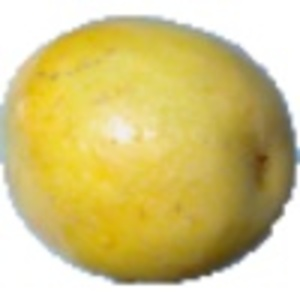maracujá: (1, 15, 300, 287)
